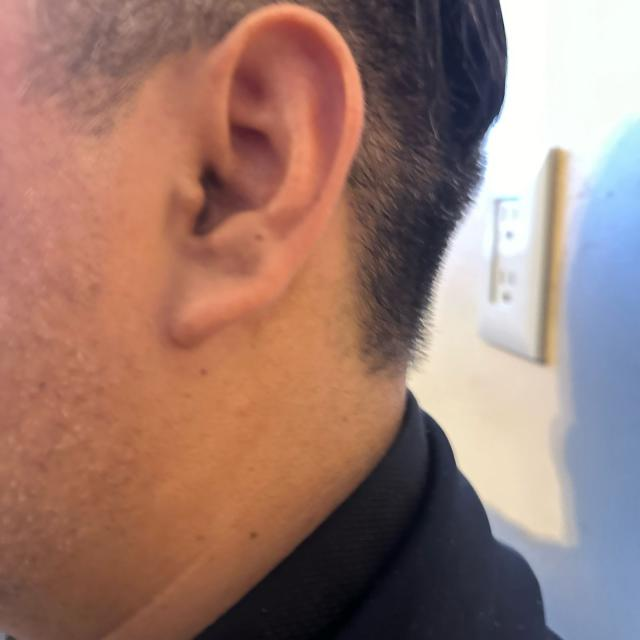ear: (168, 4, 362, 318)
